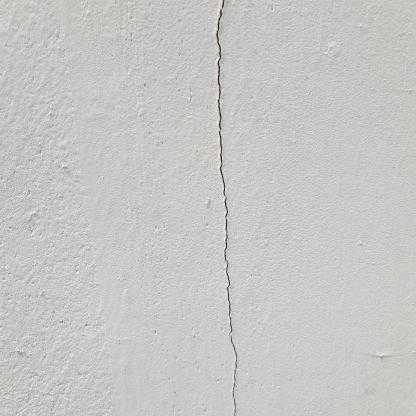crack: (215, 0, 239, 416)
